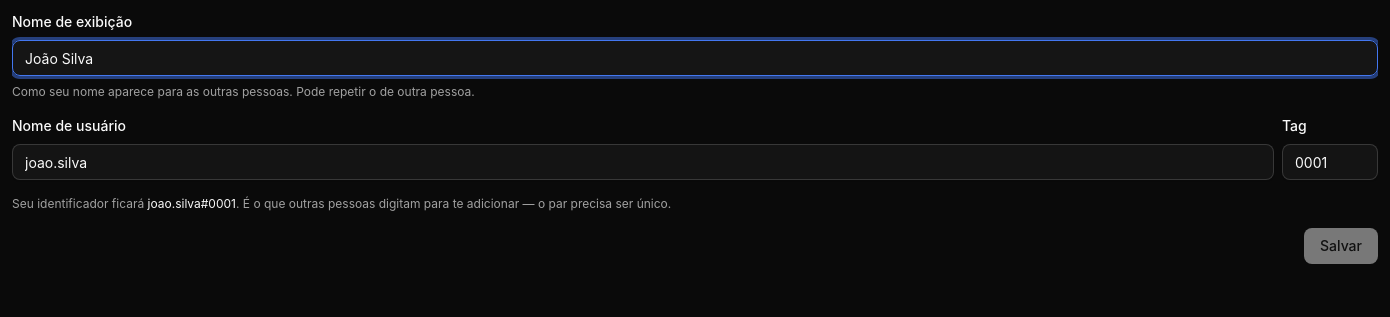
EditProfileForm › depois de um erro o botão volta a ficar clicável
This screenshot has width=1390, height=317.
Step 1. Type "Leo" into the field labelled "Nome de exibição" → (695, 58), box left=12, top=40, right=1378, bottom=76
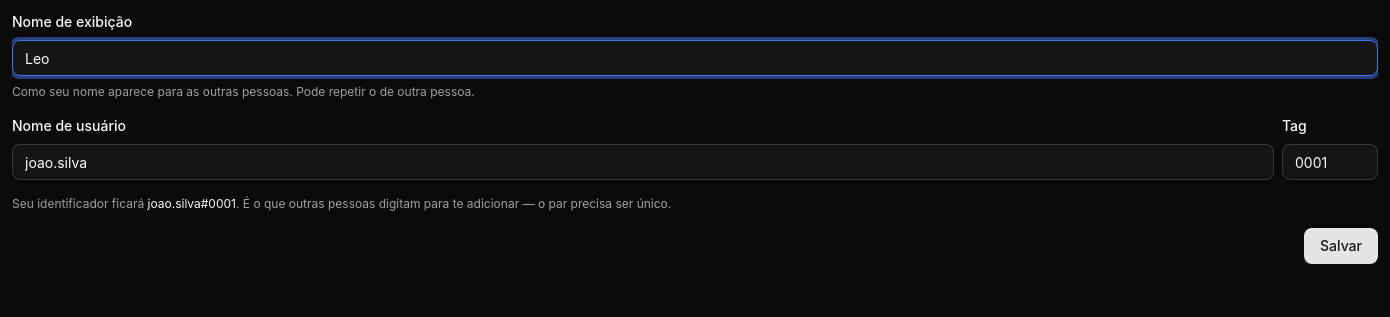
Step 2. Click the button "Salvar" → (1341, 246), box left=1304, top=228, right=1378, bottom=264
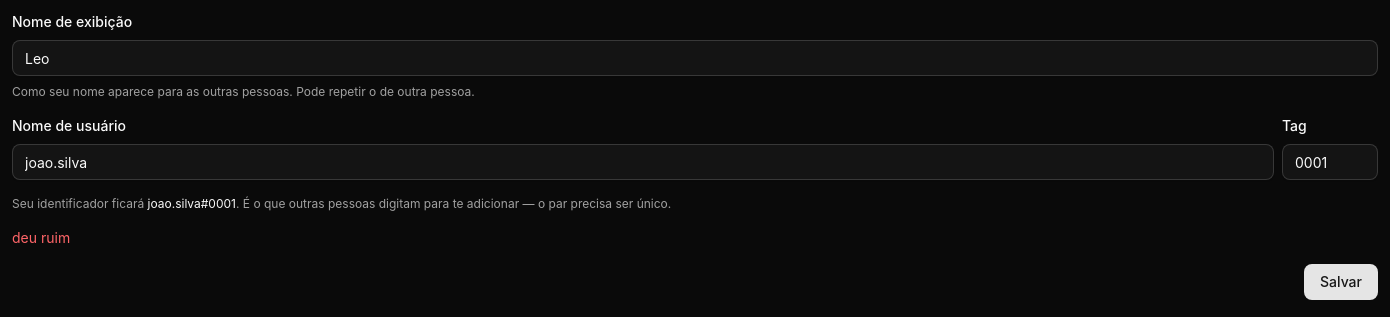
Expected: the button "Salvar" is enabled, left=1304, top=264, right=1378, bottom=300
Expected: the message "deu ruim" is shown, left=12, top=229, right=70, bottom=246
